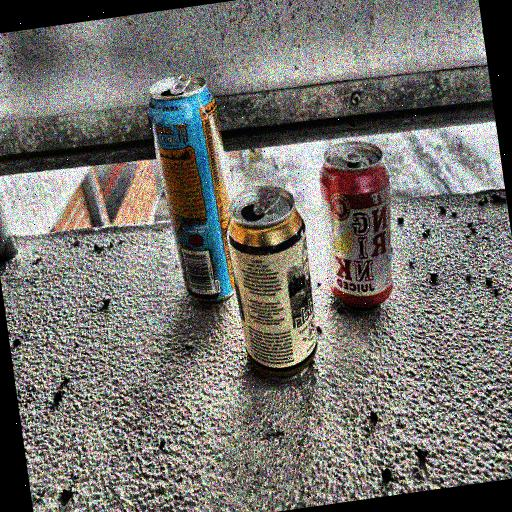koff: (306, 126, 422, 316)
sandels: (214, 180, 333, 401)
